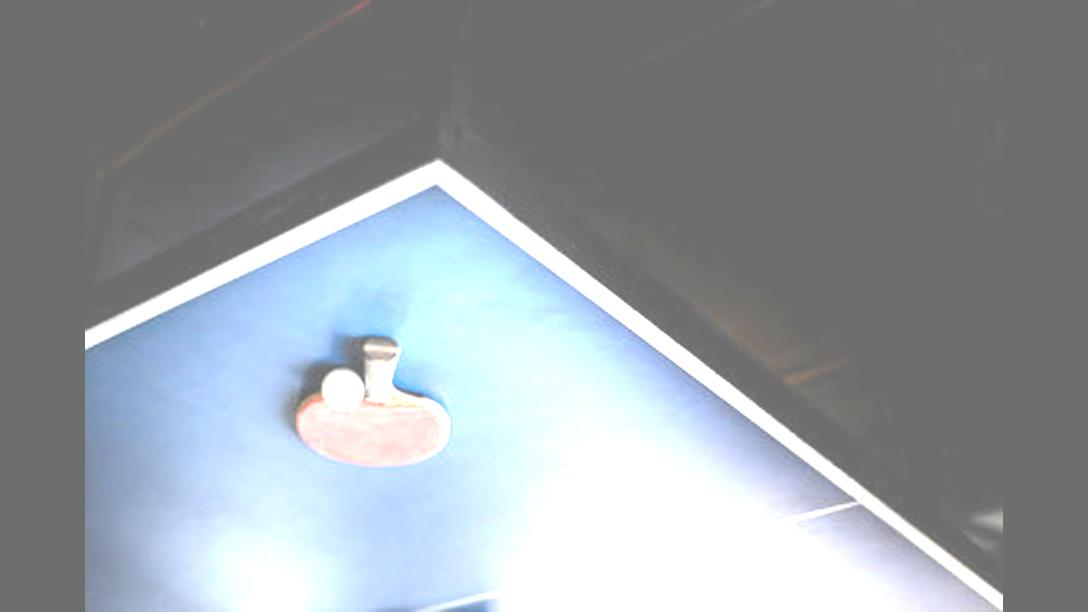Table-Tennis-Ball: (323, 371, 362, 410)
